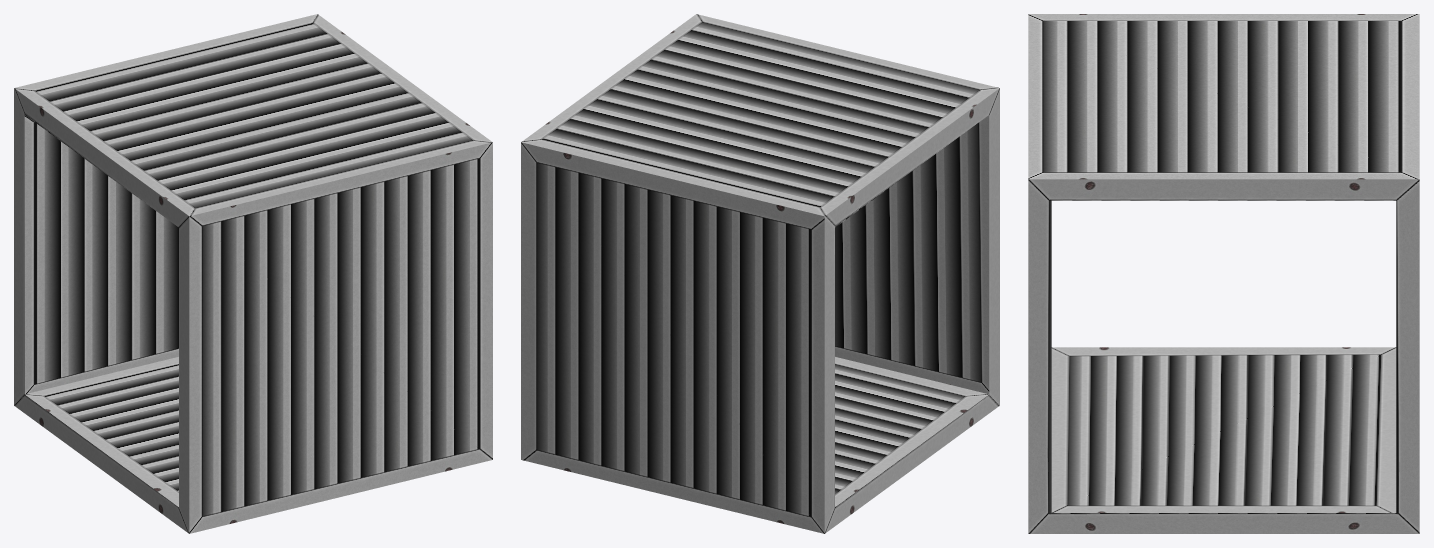
Rendered from VentIntercept.fbx.
3 renders of one model, left to right at view 1: azimuth 30°, elevation 25°; view 2: azimuth 150°, elevation 25°; view 3: azimuth 270°, elevation 25°, orthographic. The views are drawn at different scales.
Parts seen in each view (by area): view 1: Cube; view 2: Cube; view 3: Cube.
Boxes of the visible parts, box(x1,y1,x2,y2) form: Cube: box(14, 14, 492, 533); Cube: box(521, 14, 999, 533); Cube: box(1028, 14, 1419, 533).
Size of the model in its own units: 200 by 200 by 200.
